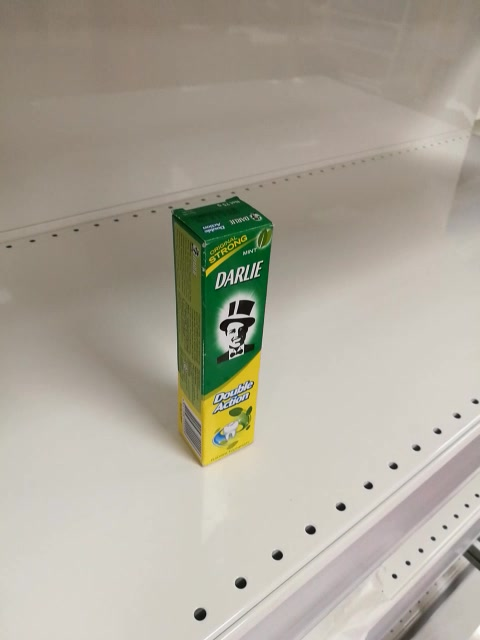toothpaste: (171, 195, 274, 468)
